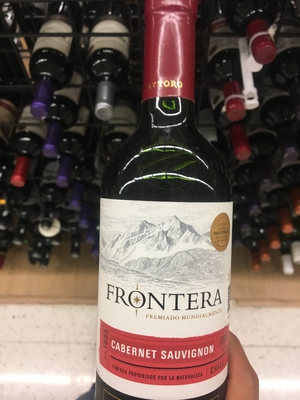frontera cabernet sauvignon: (82, 9, 252, 400)
